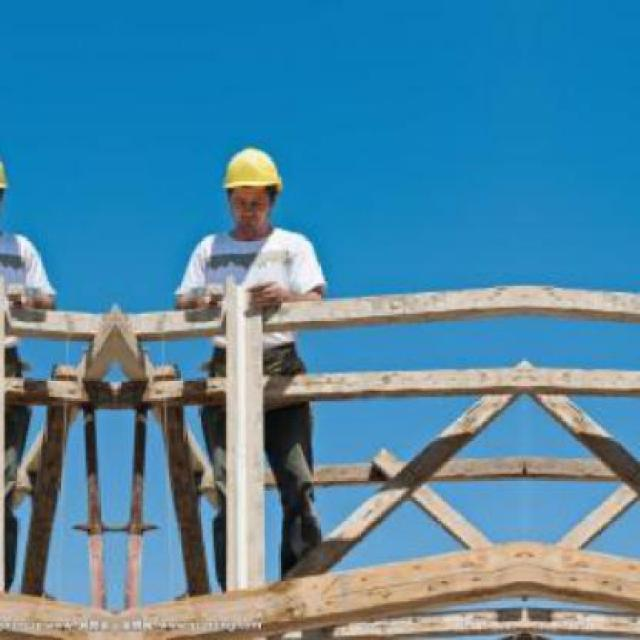helmet: (217, 136, 292, 210)
